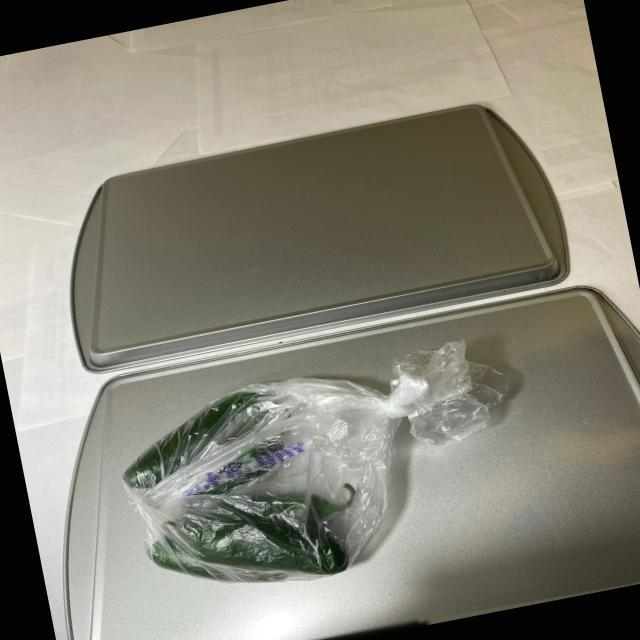chilli: (110, 372, 378, 612)
